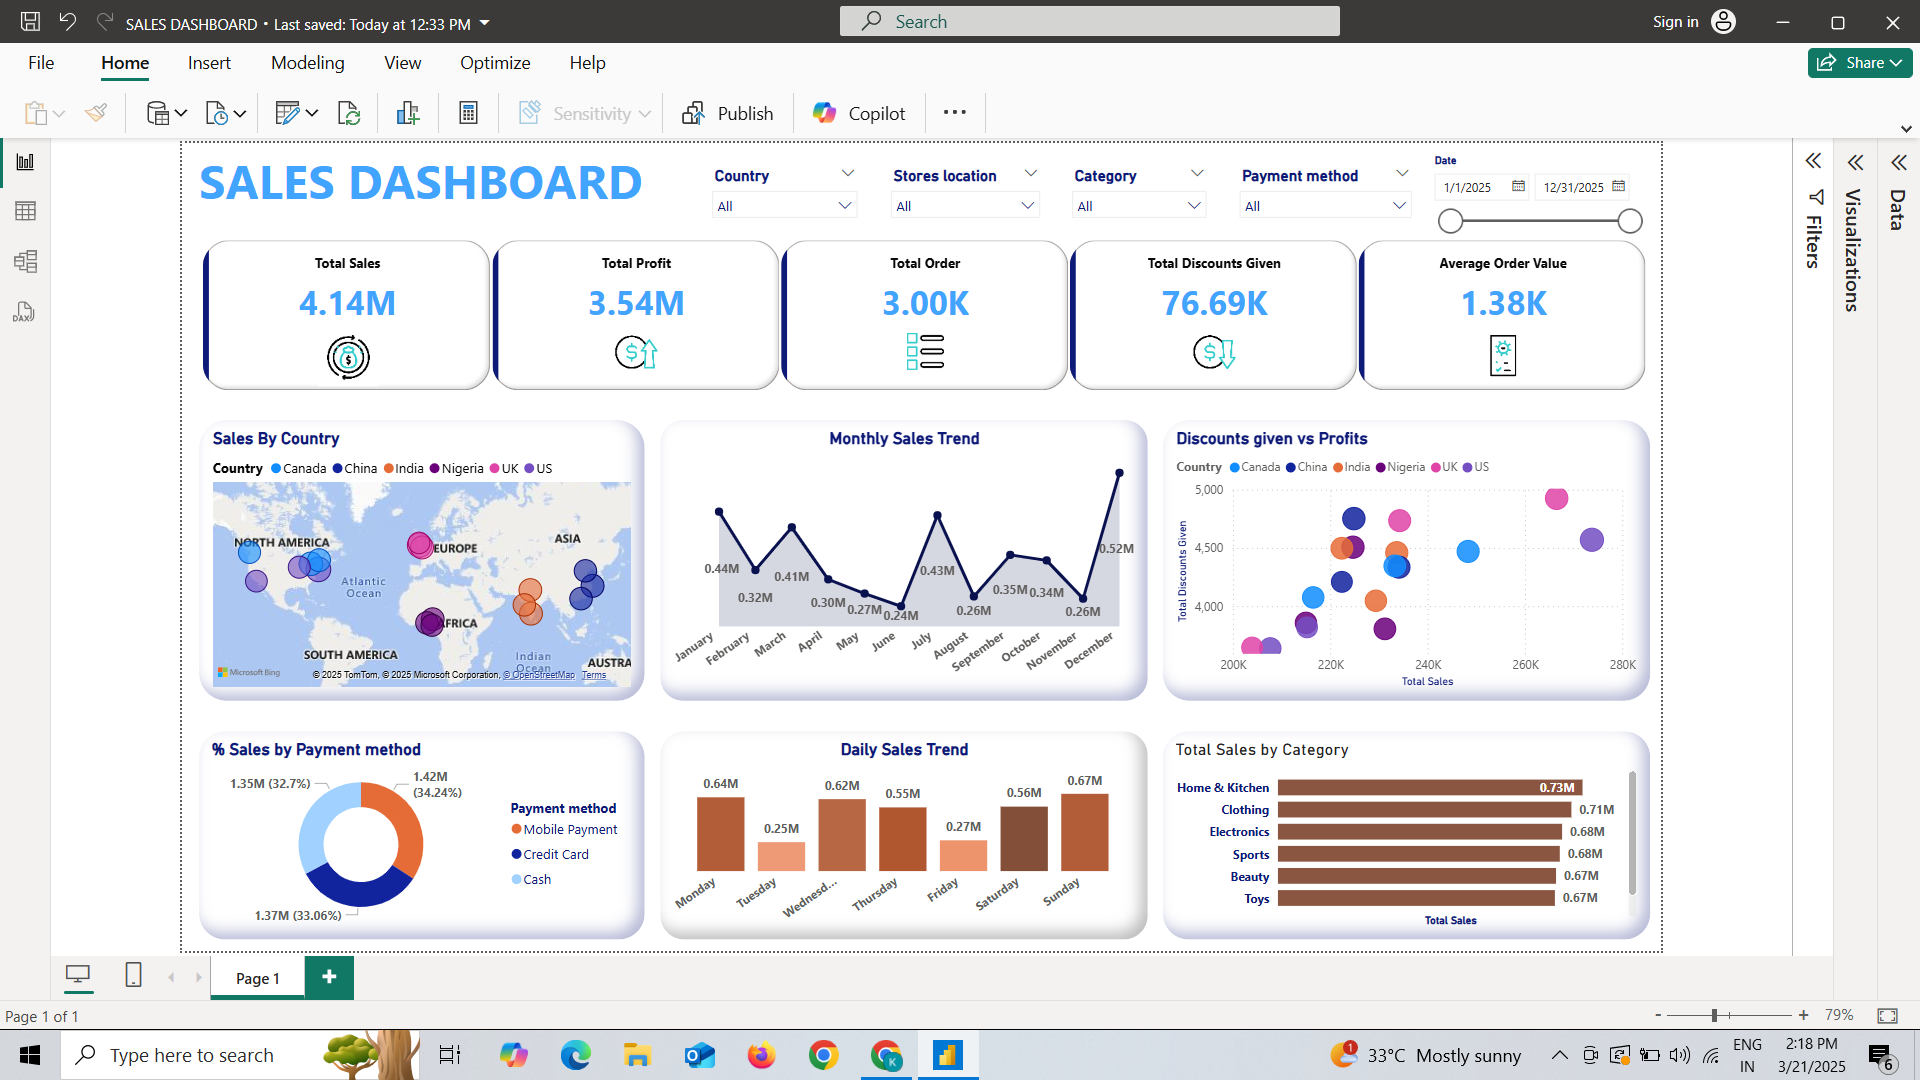

The dashboard page shown, as its layout file describes it:
{"tool":"powerbi","page":{"name":"Page 1","canvas":[1500,820],"ordinal":0},"visuals":[{"type":"cardVisual","fields":{"Data":["public Sales Data.Total Sales","public Sales Data.Total Profit","public Sales Data.Total Order","public Sales Data.Total Discounts Given","public Sales Data.Average Order Value"]},"box":[16.5,93.8,1473.2,162.3],"z":0},{"type":"textbox","box":[0,0,484.3,79.9],"z":1000},{"type":"slicer","fields":{"Values":["public Sales Data.Stores location"]},"box":[708.6,19.1,171.7,61.3],"z":2000},{"type":"slicer","fields":{"Values":["public Sales Data.Country"]},"box":[527.3,19.1,167.6,61.3],"z":3000},{"type":"slicer","fields":{"Values":["public Sales Data.Category"]},"box":[892.5,19.1,156.7,61.3],"z":4000},{"type":"slicer","fields":{"Values":["public Sales Data.Payment method"]},"box":[1062.9,19.1,194.9,61.3],"z":5000},{"type":"slicer","fields":{"Values":["public Sales Data.Date"]},"box":[1257.7,6.8,231.7,87.2],"z":6000},{"type":"map","title":"Sales By Country","fields":{"Category":["public Sales Data.Stores location"],"Size":["public Sales Data.Total Sales"],"Series":["public Sales Data.Country"]},"box":[16.5,280.2,453.9,286.5],"z":7000},{"type":"stackedAreaChart","title":"Monthly Sales Trend","fields":{"Category":["public Sales Data.Month Name"],"Y":["public Sales Data.Total Sales"]},"box":[484.3,280.2,495.7,286.5],"z":7001},{"type":"columnChart","title":"Daily Sales Trend","fields":{"Y":["public Sales Data.Total Profit"],"Category":["public Sales Data.Day Name"]},"box":[484.3,595.9,495.7,213],"z":7002},{"type":"donutChart","title":"% Sales by Payment method","fields":{"Category":["public Sales Data.Payment method"],"Y":["public Sales Data.Total Sales"]},"box":[16.5,595.9,453.9,213],"z":7003},{"type":"scatterChart","title":"Discounts given vs Profits","fields":{"Y":["public Sales Data.Total Discounts Given"],"Series":["public Sales Data.Country"],"Size":["public Sales Data.Total Order"],"X":["public Sales Data.Total Sales"],"Category":["public Sales Data.Stores location"]},"box":[993.9,280.2,495.7,286.5],"z":7004},{"type":"barChart","fields":{"Y":["public Sales Data.Total Sales"],"Category":["public Sales Data.Category"]},"box":[993.9,595.9,495.7,213],"z":7005}]}

Visuals, with their boxes on the page's 1500x820 design canvas (x1, y1, x2, y2). These are canvas units, not pixel positions in the 1920x1080 screenshot, which may show the page scaled, cropped or inside an application window:
cardVisual - public Sales Data.Total Sales x public Sales Data.Total Profit: BBox(16, 94, 1490, 256)
textbox: BBox(0, 0, 484, 80)
slicer - public Sales Data.Stores location: BBox(709, 19, 880, 80)
slicer - public Sales Data.Country: BBox(527, 19, 695, 80)
slicer - public Sales Data.Category: BBox(892, 19, 1049, 80)
slicer - public Sales Data.Payment method: BBox(1063, 19, 1258, 80)
slicer - public Sales Data.Date: BBox(1258, 7, 1489, 94)
"Sales By Country" map: BBox(16, 280, 470, 567)
"Monthly Sales Trend" stackedAreaChart: BBox(484, 280, 980, 567)
"Daily Sales Trend" columnChart: BBox(484, 596, 980, 809)
"% Sales by Payment method" donutChart: BBox(16, 596, 470, 809)
"Discounts given vs Profits" scatterChart: BBox(994, 280, 1490, 567)
barChart - public Sales Data.Total Sales x public Sales Data.Category: BBox(994, 596, 1490, 809)
